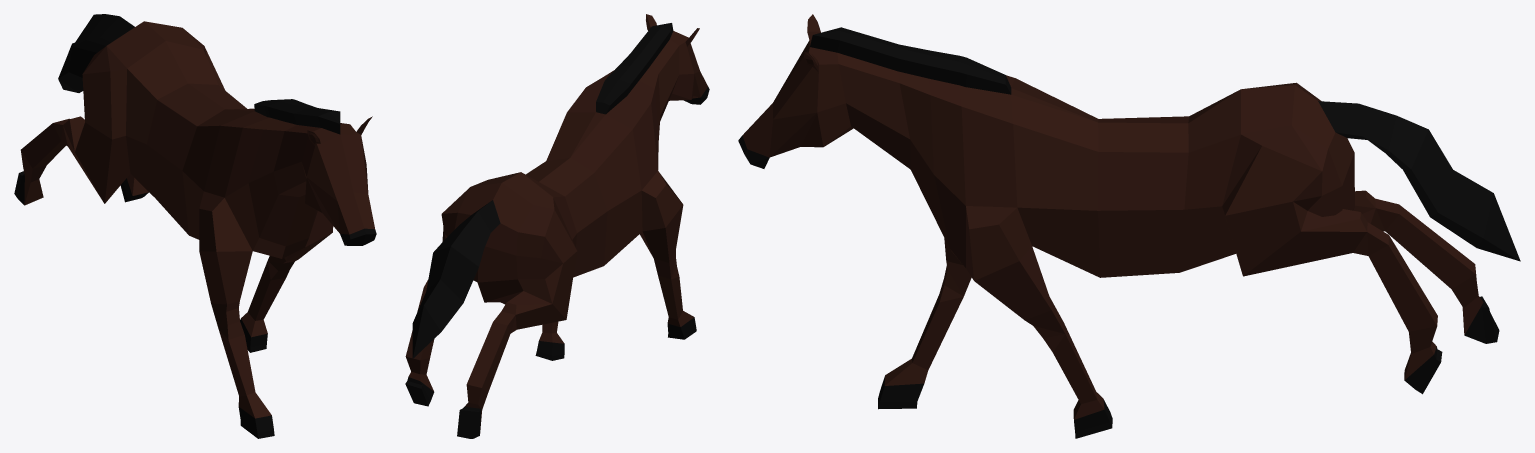
Rendered from Horse_000017.obj.
The picture shows the model from 3 angles, left to right: view 1: azimuth 30°, elevation 25°; view 2: azimuth 150°, elevation 25°; view 3: azimuth 270°, elevation 25°; orthographic projection. The views are drawn at different scales.
Parts seen in each view (by area): view 1: Horse_Cylinder; view 2: Horse_Cylinder; view 3: Horse_Cylinder.
Boxes of the visible parts, <box> form: Horse_Cylinder: <box>14,14,376,438</box>; Horse_Cylinder: <box>405,14,709,438</box>; Horse_Cylinder: <box>738,14,1520,438</box>.
Bounding box in the file's own units: 2.63 × 6.05 × 10.68.
